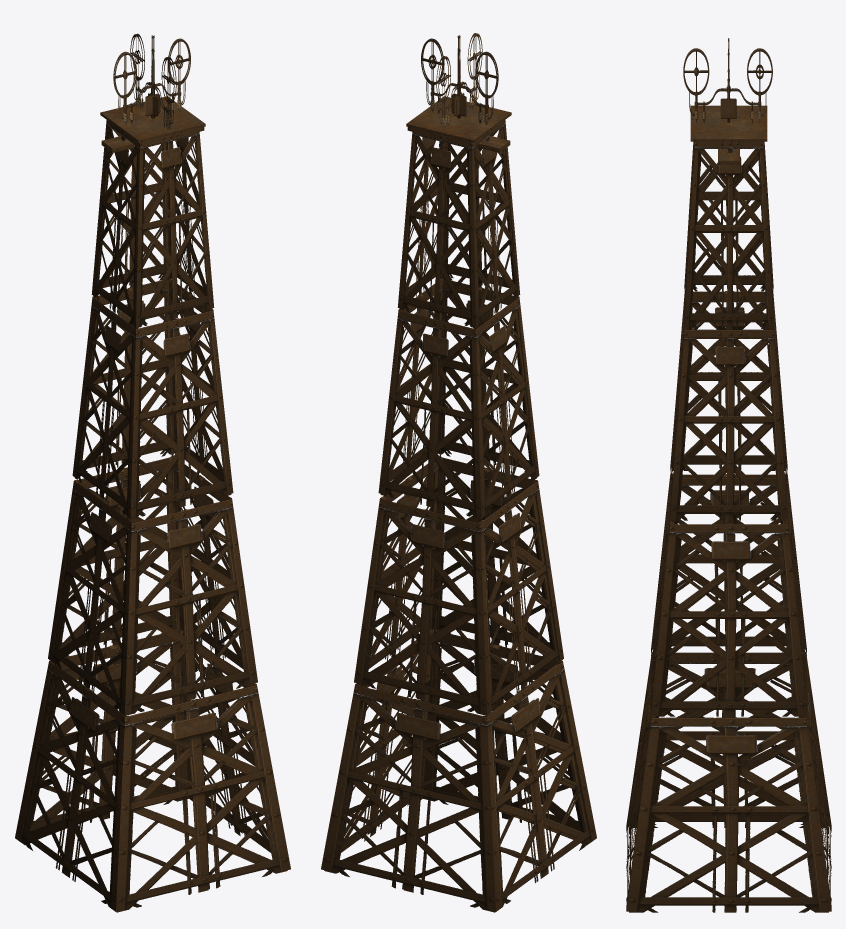
The model's file is tower_tele.dae.
The picture shows the model from 3 angles, left to right: view 1: azimuth 30°, elevation 25°; view 2: azimuth 150°, elevation 25°; view 3: azimuth 270°, elevation 25°; orthographic projection.
Visible parts, largest first — view 1: Cube; view 2: Cube; view 3: Cube.
Part boxes in pixels (left/top/right/bottom): Cube: left=15, top=33, right=290, bottom=912; Cube: left=321, top=33, right=596, bottom=912; Cube: left=626, top=38, right=831, bottom=912.
Bounding box in the file's own units: 6.45 × 6.45 × 28.92.
